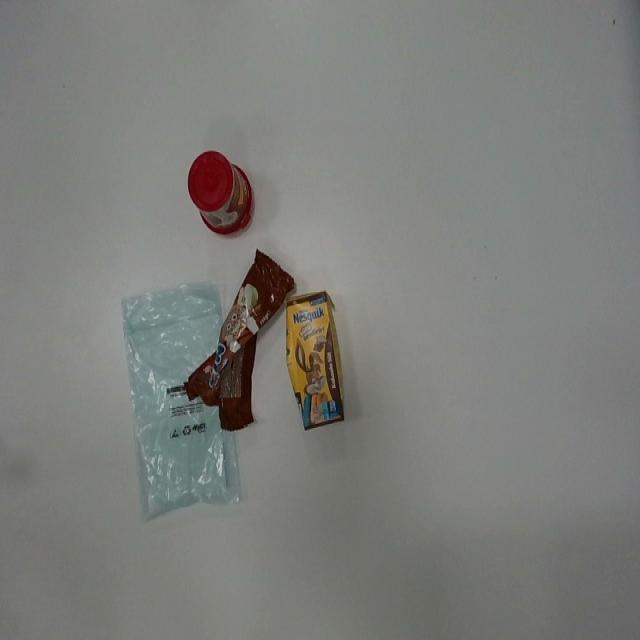paper: (286, 290, 346, 431)
plastic: (122, 282, 244, 524), (184, 248, 297, 432), (187, 148, 256, 239)
